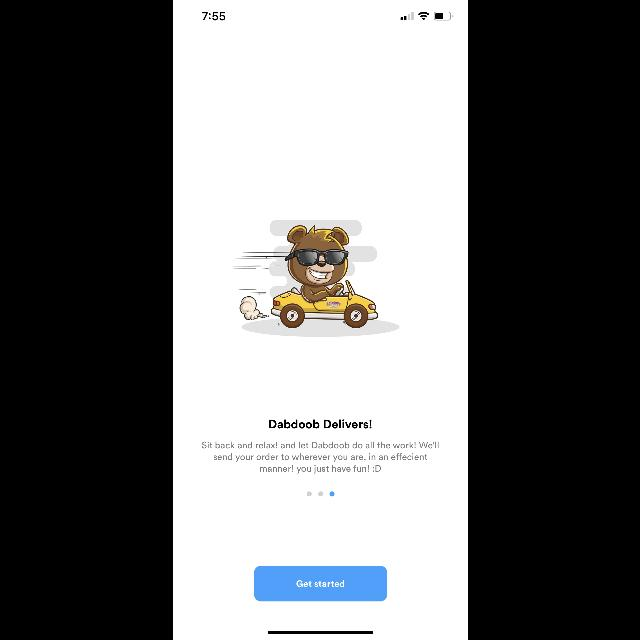image: (230, 220, 398, 338)
pageindicator: (306, 492, 334, 496)
text: (202, 442, 438, 474), (269, 419, 371, 428)
textbutton: (254, 566, 386, 600)
uppertaskbar: (202, 12, 452, 21)
